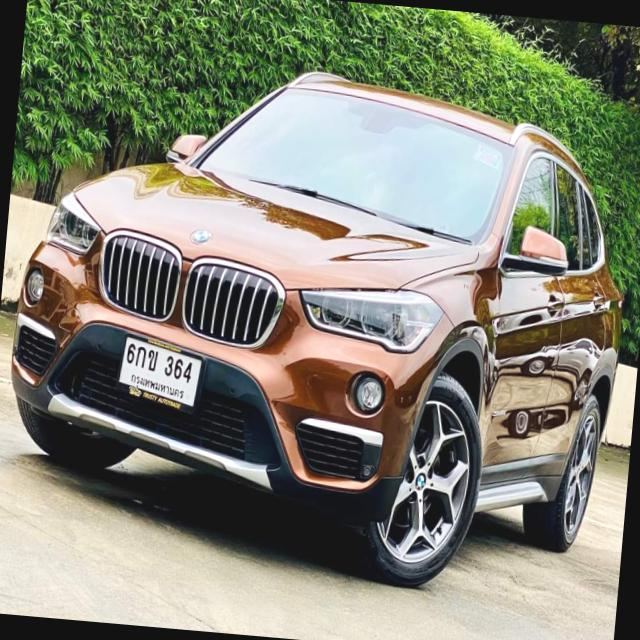license_plate: (112, 327, 209, 422)
